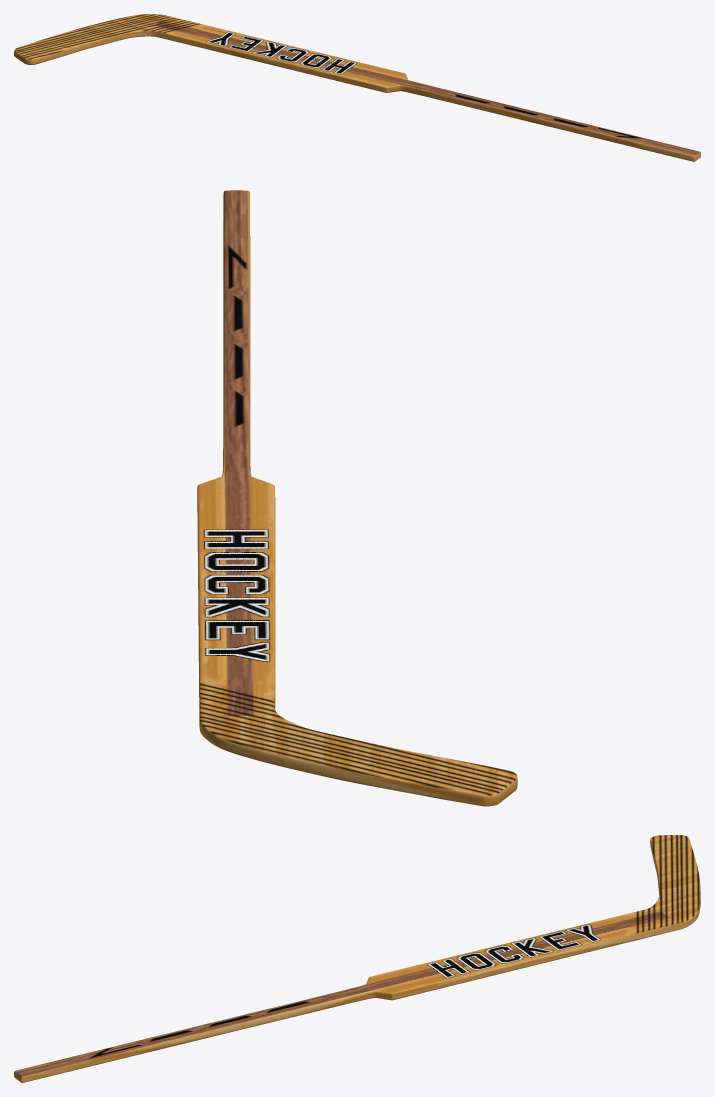
The model's file is 11746_stick_v2_L3.obj.
3 renders of one model, top to bottom at view 1: azimuth 30°, elevation 25°; view 2: azimuth 150°, elevation 25°; view 3: azimuth 270°, elevation 25°, orthographic. The views are drawn at different scales.
Parts seen in each view (by area): view 1: stick_body_1; view 2: stick_body_1; view 3: stick_body_1.
Part boxes in pixels (bbox=[...]): stick_body_1: bbox=[14, 14, 700, 161]; stick_body_1: bbox=[197, 190, 517, 806]; stick_body_1: bbox=[14, 835, 700, 1082].
Size of the model in its own units: 77.97 by 1.14 by 93.61.
1 material, 1 textured.
